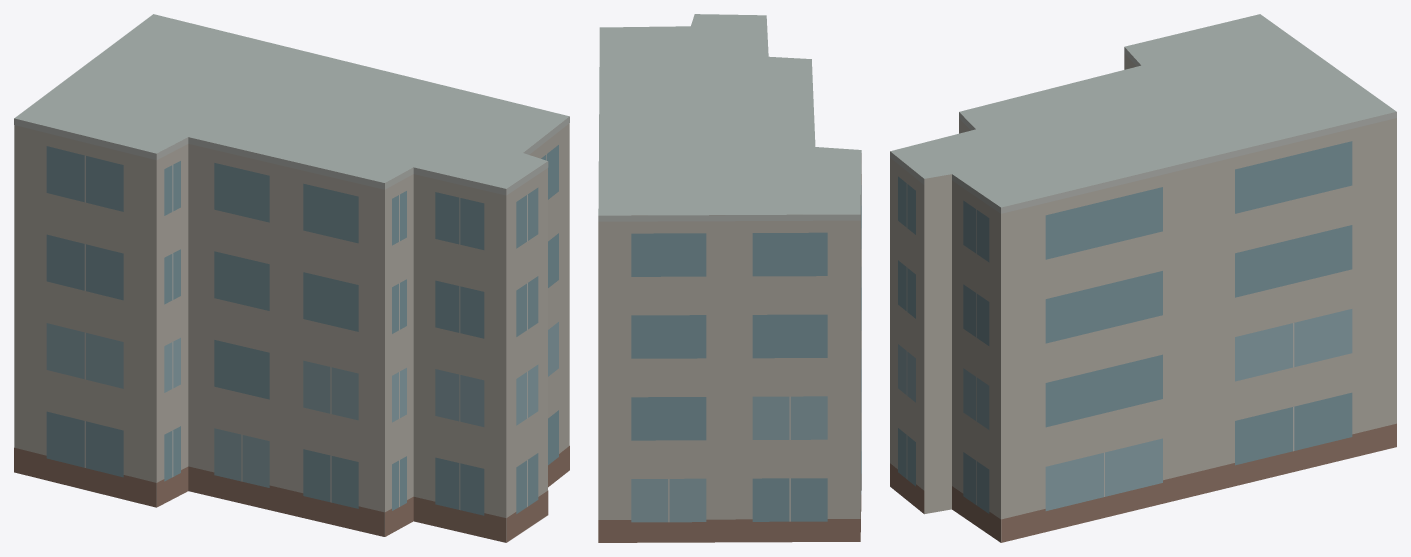
The model's file is survey-upis-32584023.glb.
3 views of the same model, side by side, from view 1: azimuth 30°, elevation 25°; view 2: azimuth 150°, elevation 25°; view 3: azimuth 270°, elevation 25° (orthographic). The views are drawn at different scales.
Parts seen in each view (by area): view 1: survey-upis-32584023.tmp; view 2: survey-upis-32584023.tmp; view 3: survey-upis-32584023.tmp.
Boxes of the visible parts, x1,y1,x2,y2 form: survey-upis-32584023.tmp: (14,14,569,542); survey-upis-32584023.tmp: (598,14,861,542); survey-upis-32584023.tmp: (890,14,1396,542).
Size of the model in its own units: 16.11 by 13 by 17.81.
